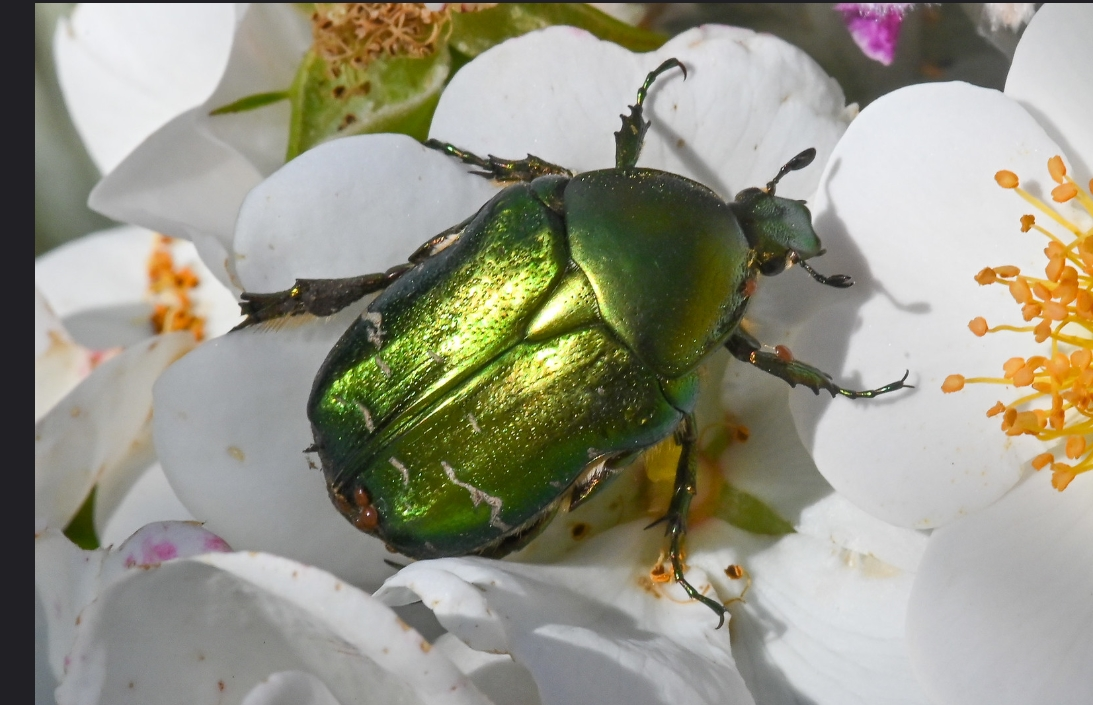Cetonia_aurata: (245, 54, 917, 656)
